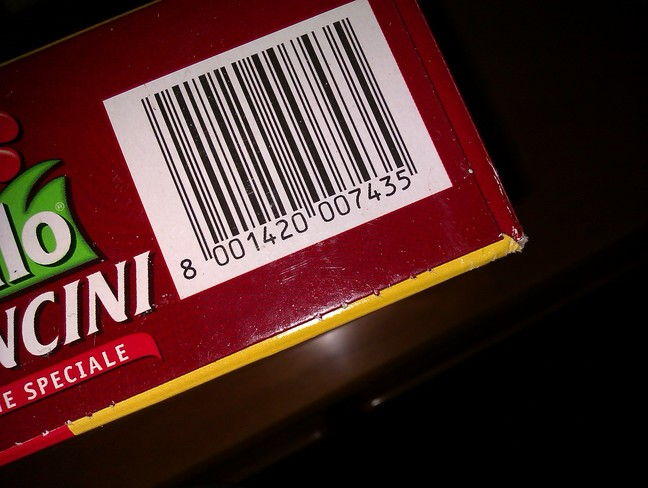barcode: (114, 12, 454, 283)
